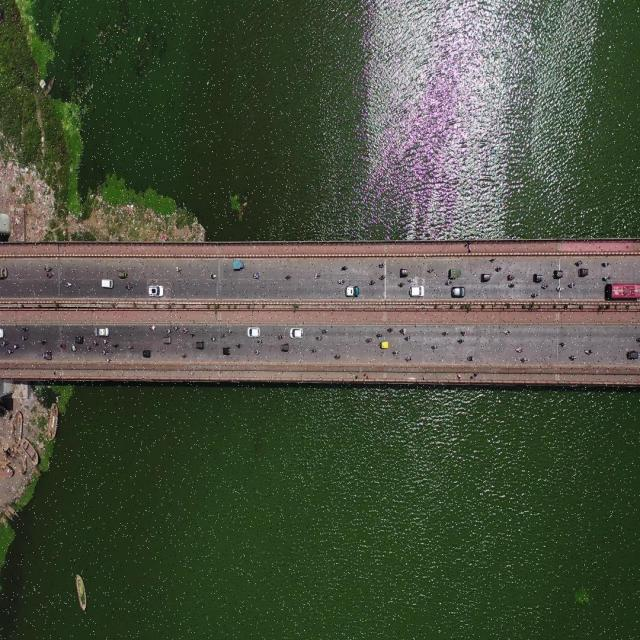3W: (231, 254, 247, 273), (551, 266, 566, 280), (626, 347, 640, 362), (41, 349, 54, 363), (380, 340, 392, 355), (279, 340, 291, 354), (162, 334, 174, 348), (143, 345, 153, 360), (117, 267, 129, 279), (578, 266, 589, 279), (194, 339, 205, 351), (479, 273, 492, 283), (74, 333, 85, 344), (398, 267, 410, 277), (222, 345, 231, 358), (533, 273, 544, 282)
Bus: (610, 283, 640, 302)
Cars: (407, 283, 426, 299), (344, 283, 360, 301), (147, 284, 166, 298), (244, 325, 261, 338), (0, 265, 9, 287), (290, 324, 303, 339), (100, 278, 115, 290), (94, 327, 110, 337), (452, 287, 466, 298)
M2W: (557, 339, 571, 351), (64, 278, 75, 292), (234, 340, 245, 353), (85, 345, 94, 359), (125, 280, 134, 294), (602, 271, 611, 285), (208, 269, 219, 280), (43, 271, 55, 281), (11, 340, 21, 351), (209, 334, 219, 345), (57, 340, 67, 351), (181, 348, 190, 360), (226, 324, 234, 337), (100, 348, 110, 358), (0, 336, 9, 347), (111, 339, 120, 350), (149, 322, 158, 333), (398, 323, 407, 334), (379, 270, 387, 282), (20, 325, 33, 332), (70, 342, 77, 355), (91, 340, 100, 350), (127, 342, 136, 352), (175, 264, 184, 274), (375, 332, 385, 341), (460, 328, 469, 338), (465, 354, 475, 363), (514, 345, 524, 354), (520, 355, 529, 365), (542, 283, 551, 293), (584, 345, 594, 354), (574, 258, 584, 267), (19, 335, 31, 342), (503, 324, 510, 336), (7, 347, 16, 356), (252, 271, 261, 280), (256, 339, 265, 348), (310, 347, 319, 356), (404, 356, 413, 365), (506, 272, 515, 281), (568, 353, 577, 362), (218, 330, 226, 340), (42, 265, 53, 272), (104, 356, 115, 363), (41, 334, 48, 345), (457, 336, 464, 347), (430, 344, 439, 352), (507, 282, 516, 290), (378, 260, 385, 270), (428, 266, 435, 276), (442, 328, 449, 338), (313, 272, 321, 280), (182, 325, 189, 334), (284, 274, 291, 283), (365, 335, 372, 344), (334, 352, 341, 361), (387, 326, 394, 335), (391, 348, 398, 357), (444, 279, 453, 286), (567, 282, 576, 289), (167, 324, 173, 334), (369, 277, 375, 287), (173, 324, 181, 331), (253, 349, 261, 356), (338, 279, 346, 286), (341, 265, 348, 273), (404, 335, 411, 343), (530, 291, 537, 299), (189, 333, 198, 339), (278, 332, 284, 341), (407, 278, 416, 284), (555, 285, 562, 292), (104, 338, 110, 345), (316, 335, 323, 341), (321, 328, 328, 334), (398, 282, 405, 288), (495, 265, 501, 272), (601, 262, 609, 267)
Truck: (448, 268, 462, 280)
